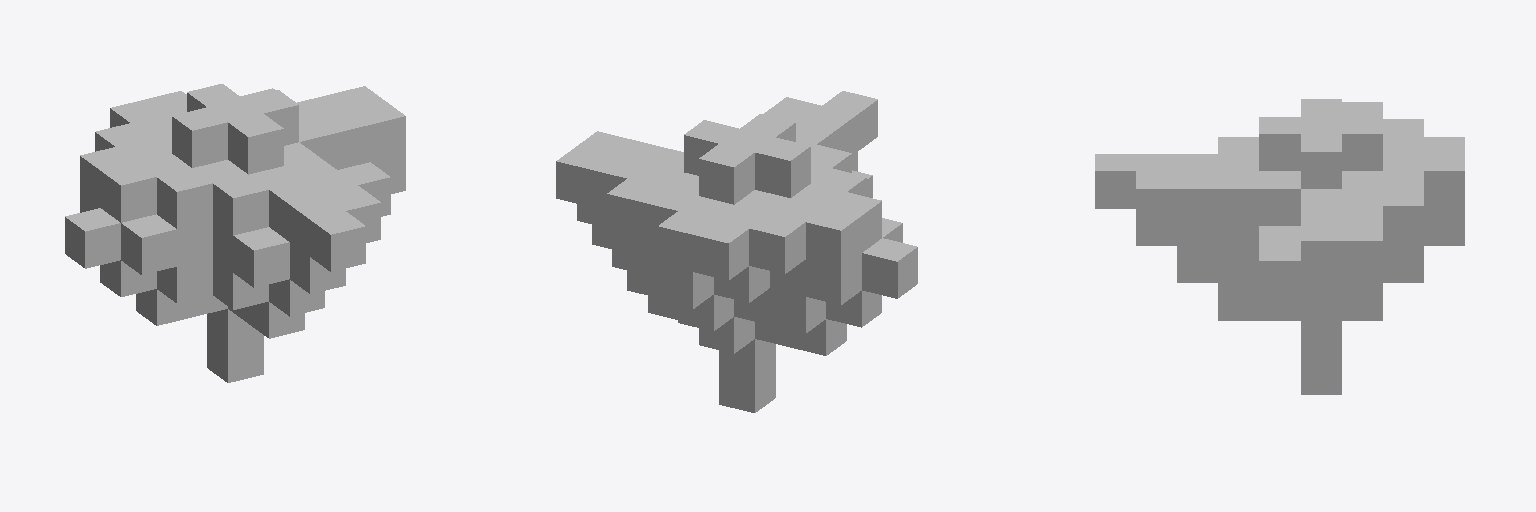
Rendered from Big_plant_1.obj.
The picture shows the model from 3 angles: view 1: azimuth 30°, elevation 25°; view 2: azimuth 150°, elevation 25°; view 3: azimuth 270°, elevation 25°; orthographic projection.
Parts seen in each view (by area): view 1: Big plant 1; view 2: Big plant 1; view 3: Big plant 1.
Part boxes in pixels (bbox=[...]): Big plant 1: bbox=[65, 84, 405, 382]; Big plant 1: bbox=[556, 91, 917, 412]; Big plant 1: bbox=[1095, 99, 1464, 394].
Bounding box in the file's own units: 9 × 7 × 9.